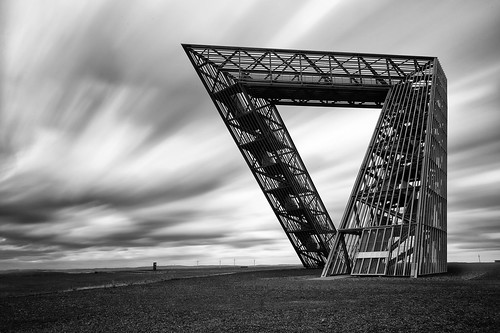building: (190, 30, 456, 291)
sky: (1, 1, 484, 249)
